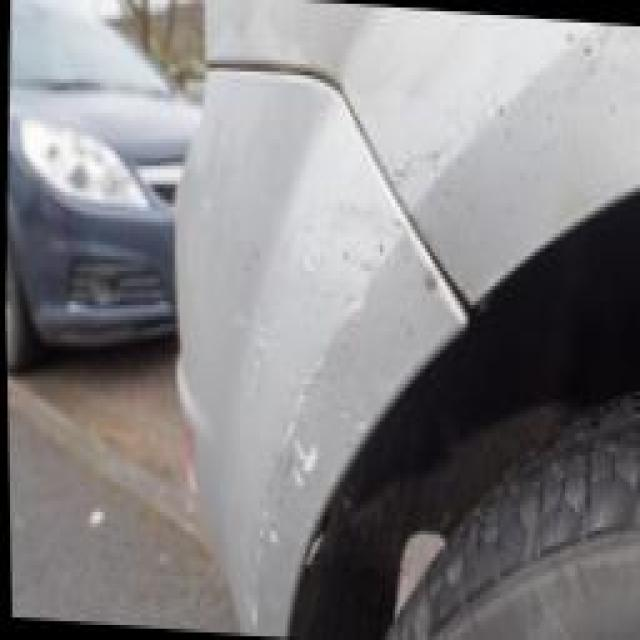Bumper: (170, 64, 474, 636)
Fender: (329, 7, 640, 293)
